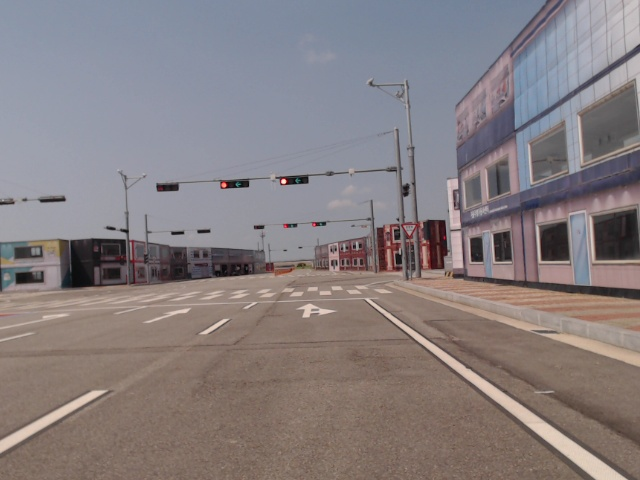left_green_4: (280, 177, 308, 185), (221, 181, 249, 188), (312, 222, 327, 227), (284, 224, 298, 228)
